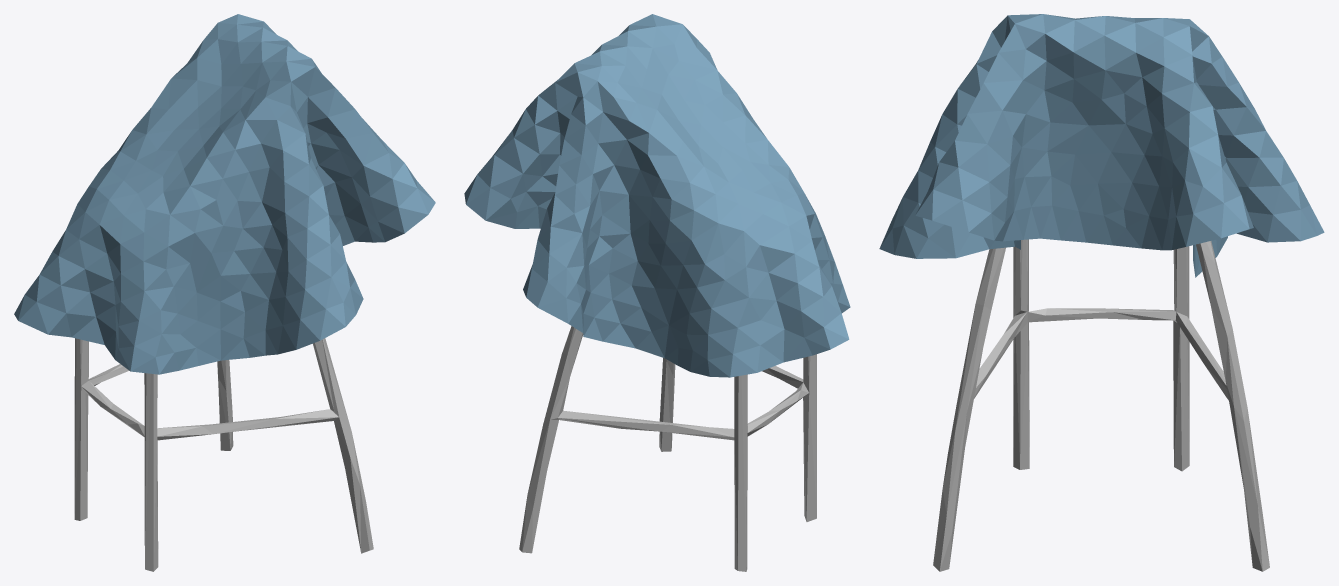
File: level_0.glb
3 renders of one model, left to right at view 1: azimuth 30°, elevation 25°; view 2: azimuth 150°, elevation 25°; view 3: azimuth 270°, elevation 25°, orthographic. The views are drawn at different scales.
Visible parts, largest first — view 1: world, object.obj; view 2: world, object.obj; view 3: world, object.obj.
Part boxes in pixels (x1,y1,x2,y2): world: (14, 14, 435, 374); object.obj: (74, 338, 373, 571); world: (464, 14, 850, 377); object.obj: (519, 326, 816, 571); world: (879, 14, 1324, 277); object.obj: (933, 239, 1269, 571).
Bounding box in the file's own units: 0.3308 × 0.4277 × 0.3207.
